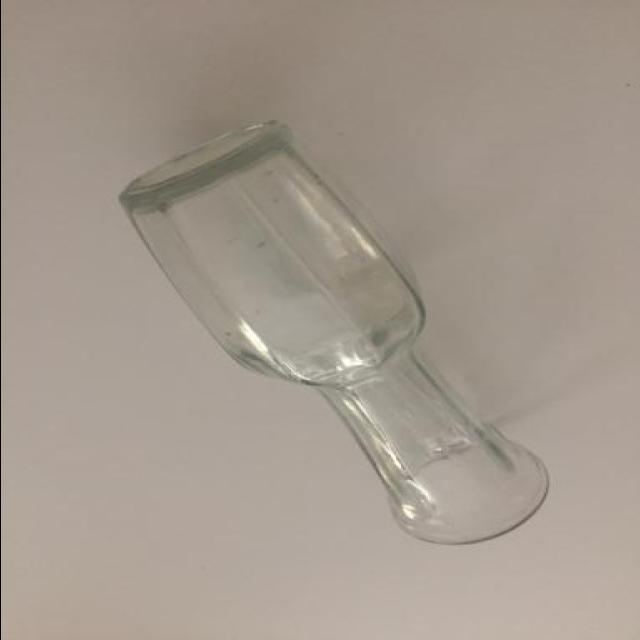glass: (111, 101, 563, 554)
